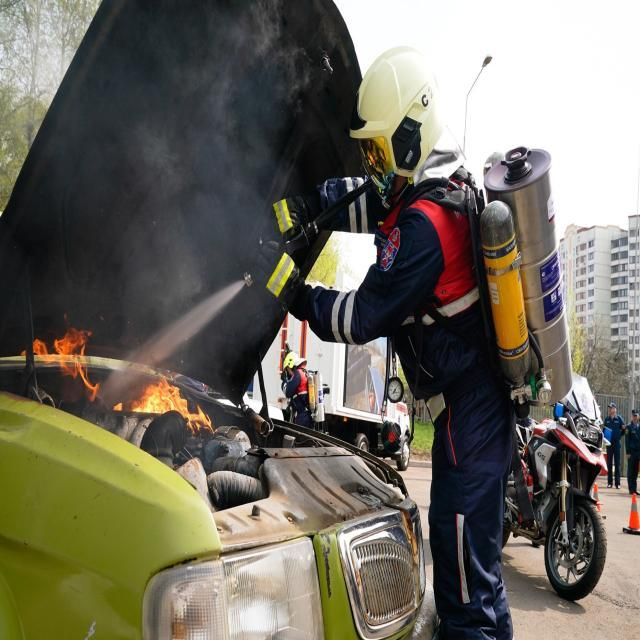Fire: (128, 375, 214, 433), (32, 328, 98, 403)
Smoke: (33, 0, 309, 375)
